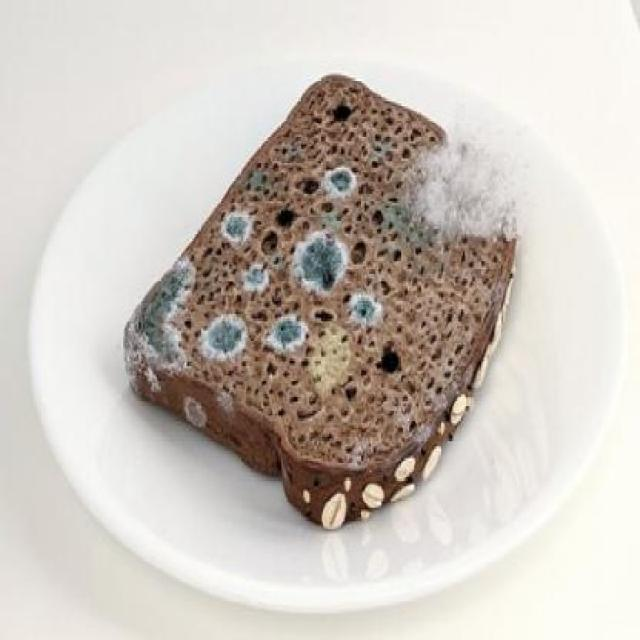mold_bread: (402, 131, 523, 248), (119, 252, 193, 388), (193, 306, 252, 367), (289, 231, 344, 292), (347, 282, 395, 337), (265, 308, 308, 354), (219, 205, 255, 246), (323, 167, 359, 198), (244, 260, 270, 293)
